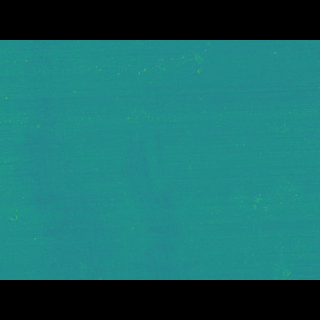Loch: (0, 125, 204, 249), (120, 69, 221, 127)
